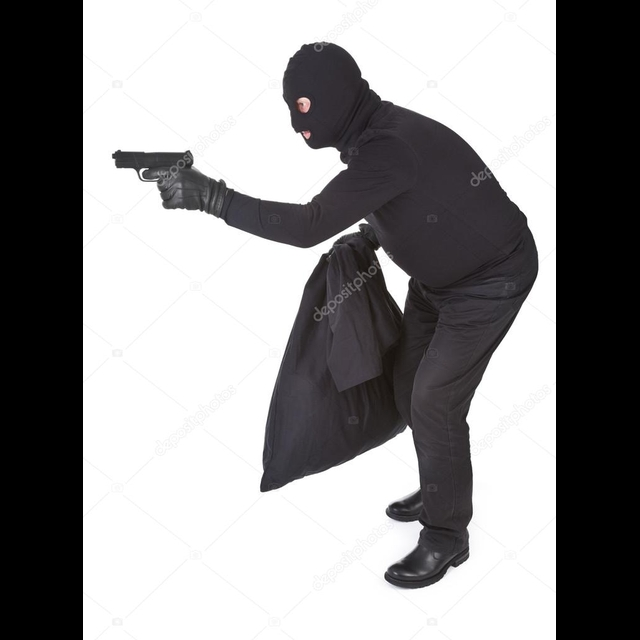SILAH: (102, 141, 216, 220)
